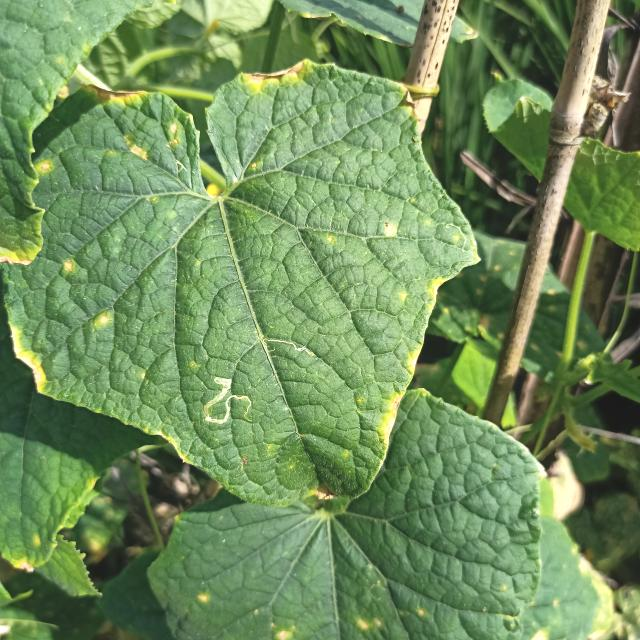disease_cucumber: (125, 120, 191, 164), (398, 278, 446, 307), (58, 256, 78, 275), (94, 311, 112, 329), (382, 221, 395, 238)
